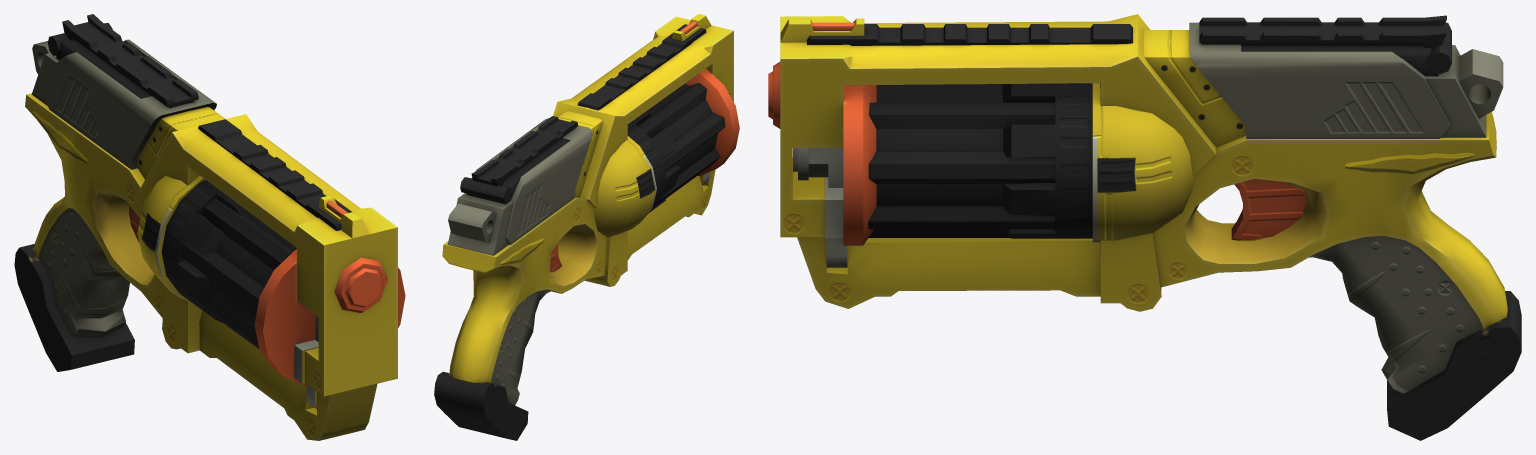
The model's file is Nerf_gun_05.fbx.
The picture shows the model from 3 angles, left to right: view 1: azimuth 30°, elevation 25°; view 2: azimuth 150°, elevation 25°; view 3: azimuth 270°, elevation 25°; orthographic projection. The views are drawn at different scales.
Visible parts, largest first — view 1: gun1, loader; view 2: gun1, loader; view 3: gun1, loader, Trigger.
Boxes of the visible parts, <box> form: gun1: <box>14,14,397,440</box>; loader: <box>161,179,405,385</box>; gun1: <box>434,14,733,440</box>; loader: <box>627,69,739,213</box>; gun1: <box>768,14,1521,440</box>; loader: <box>843,83,1092,245</box>; Trigger: <box>1231,179,1306,240</box>.
Bounding box in the file's own units: 0.0249 × 0.0569 × 0.0968.
